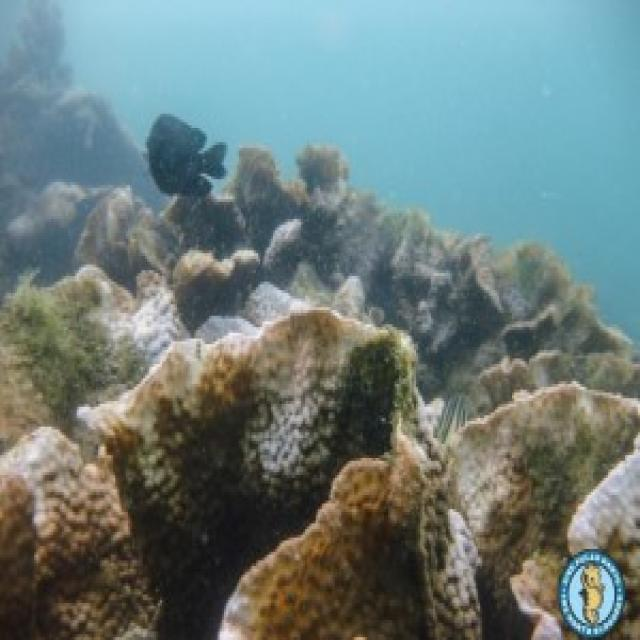Bleached: (244, 285, 372, 490), (80, 334, 248, 453), (1, 428, 129, 539), (571, 433, 639, 559), (103, 288, 189, 376), (455, 422, 515, 539), (438, 510, 479, 615)
Healthy: (221, 436, 447, 638)
